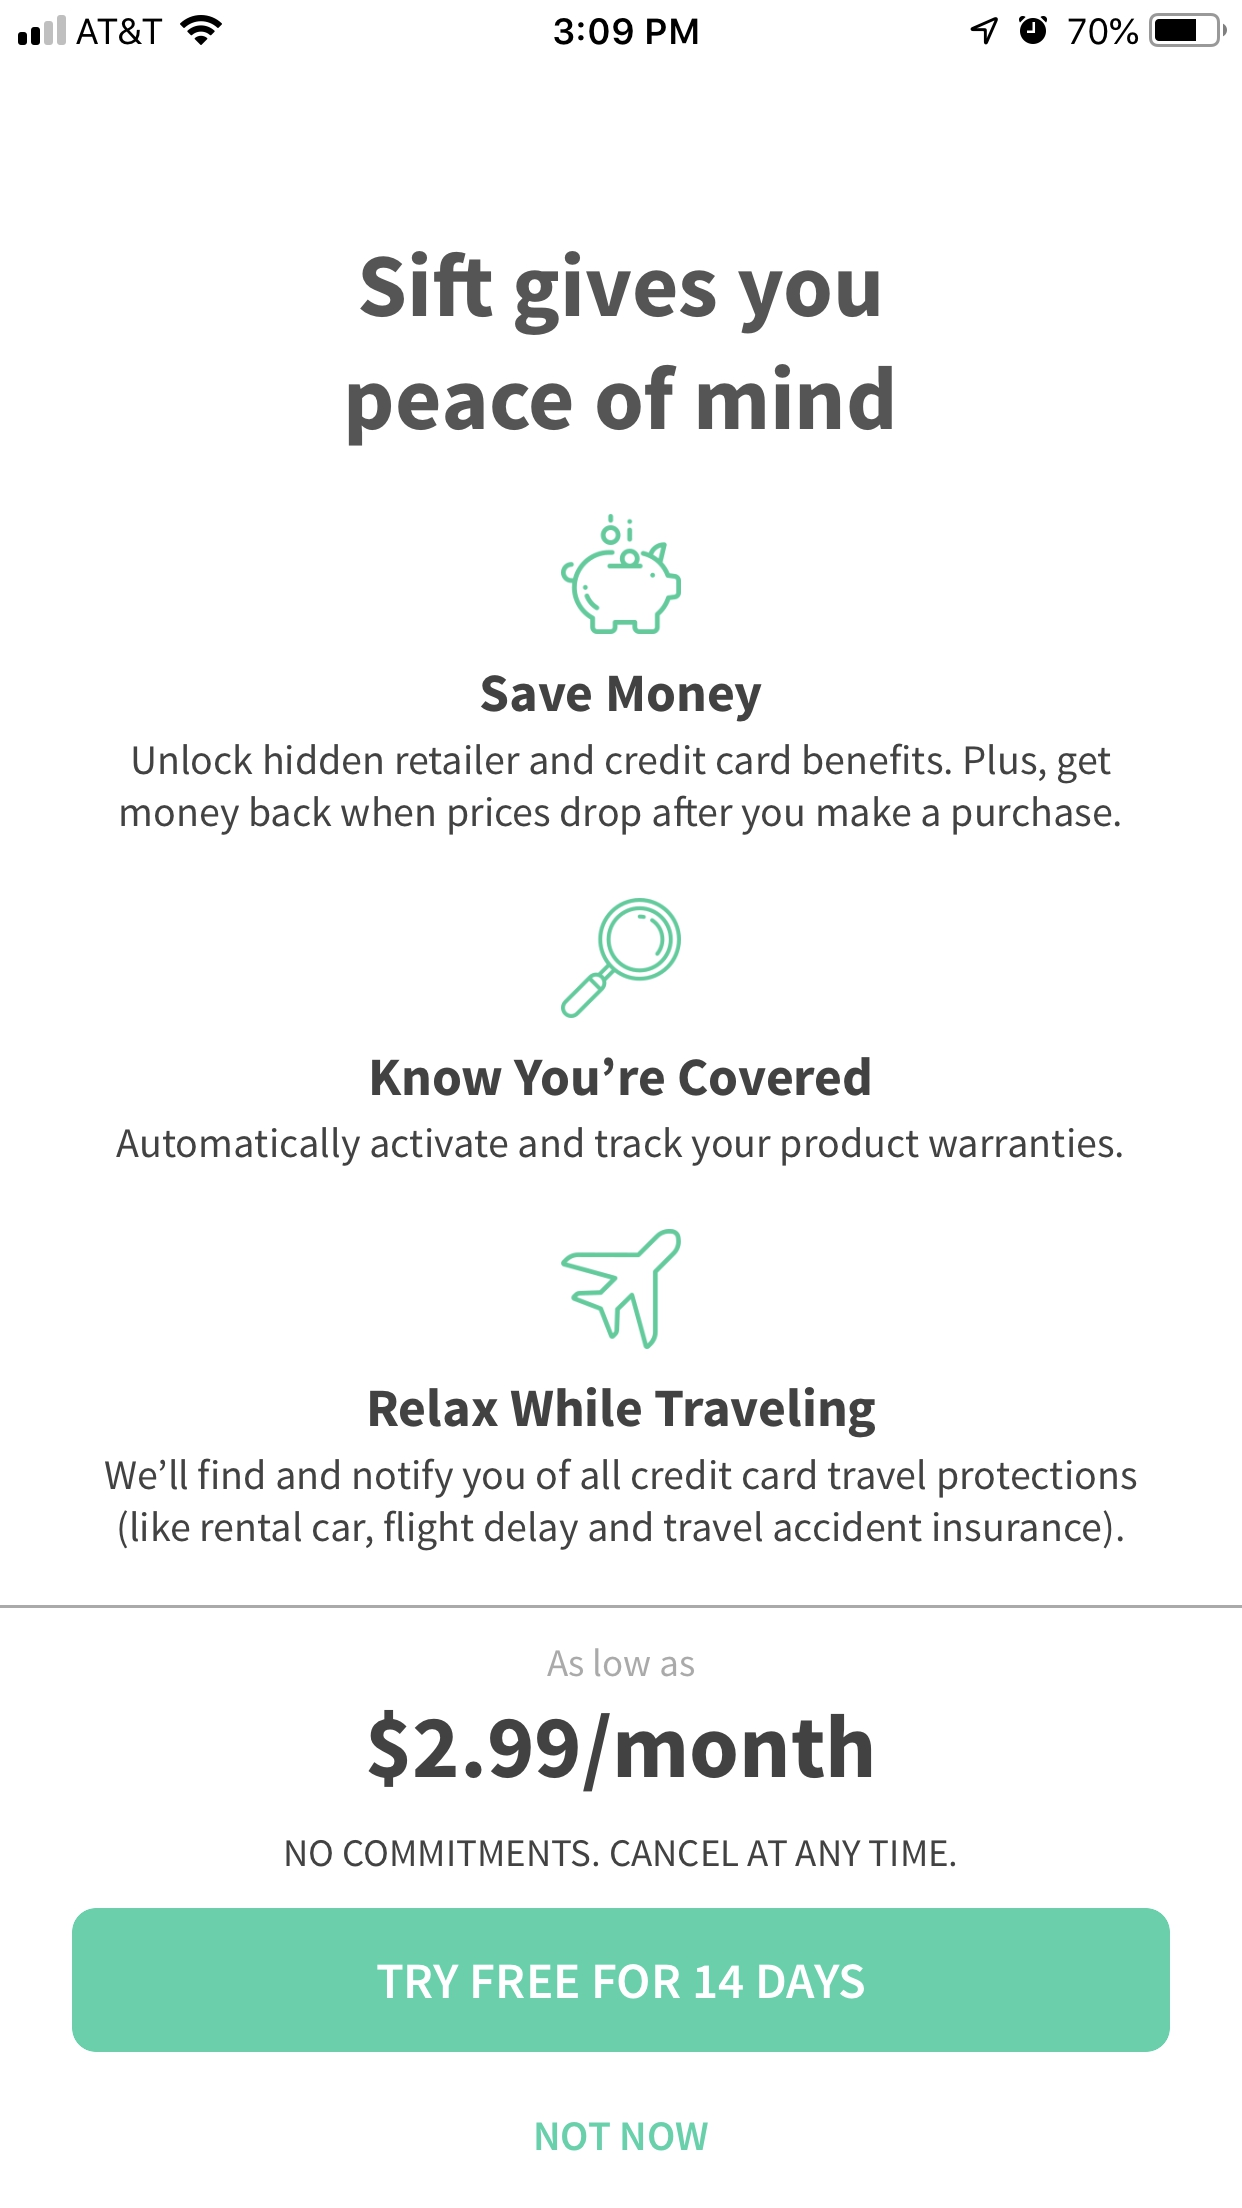Icon: (560, 898, 682, 1021)
Image: (560, 514, 682, 635), (560, 1228, 682, 1350)
Text: (347, 252, 893, 447), (105, 1457, 1137, 1551), (121, 743, 1121, 837), (115, 1127, 1124, 1168), (369, 1711, 872, 1792), (369, 1388, 877, 1439), (372, 1055, 870, 1096), (287, 1839, 955, 1868), (481, 673, 763, 723), (535, 2122, 710, 2152), (547, 1648, 695, 1679)
TextButton: (71, 1908, 1171, 2053)
UpperTaskBar: (2, 2, 1242, 49)
